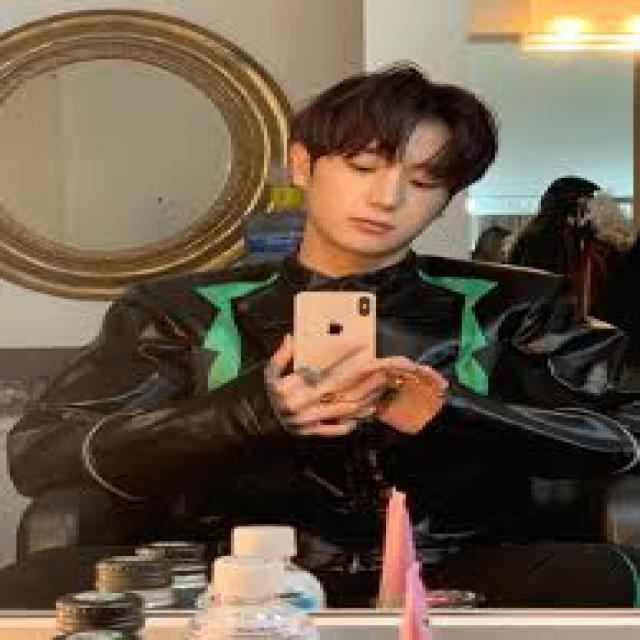Phone: (293, 291, 376, 416)
